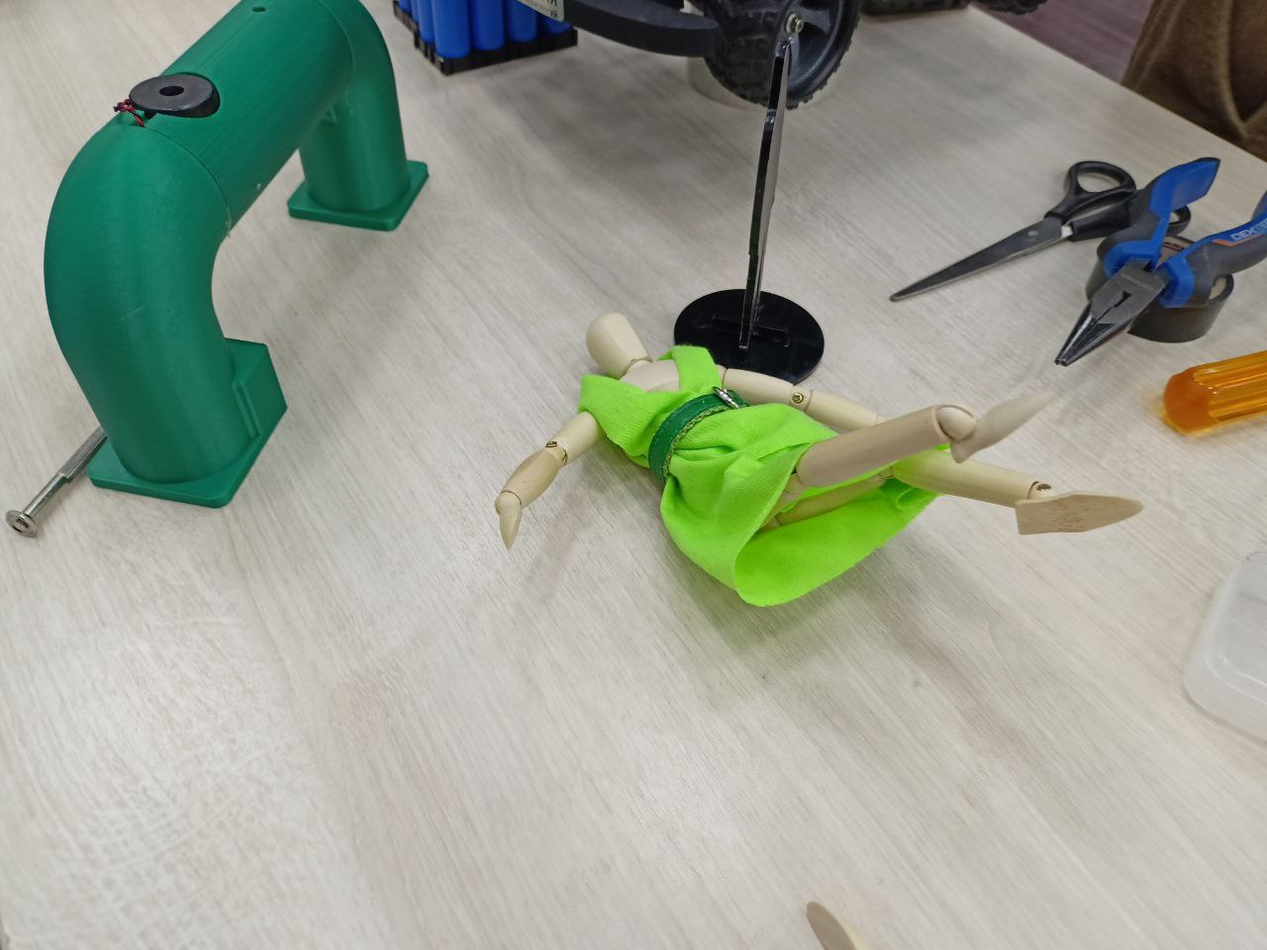Pedestrian crossing: (17, 5, 431, 517)
Road works: (466, 277, 1132, 600)
